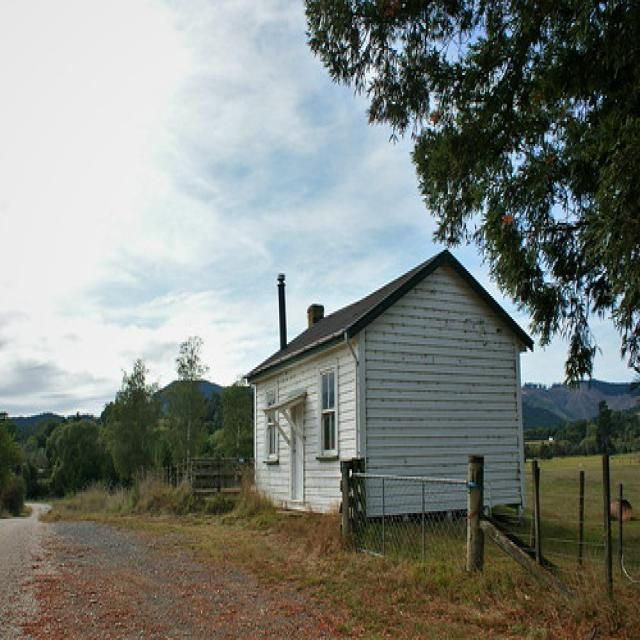building: (245, 243, 531, 526)
